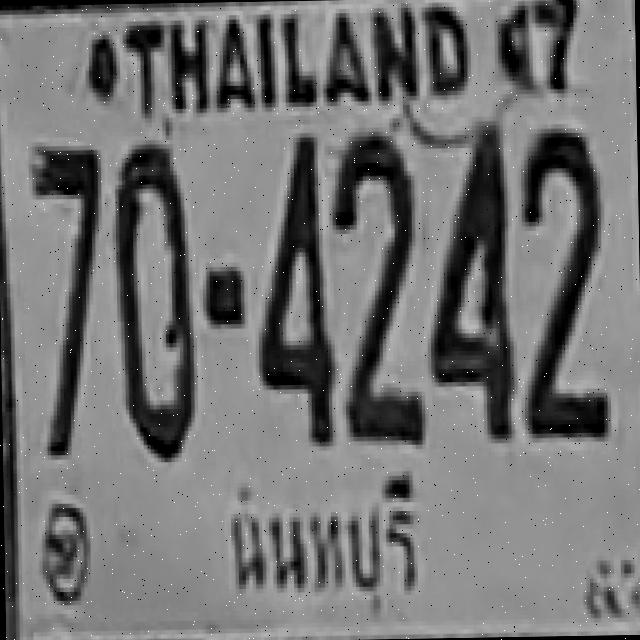0: (110, 139, 195, 458)
2: (329, 136, 416, 392), (519, 180, 606, 434), (518, 127, 602, 380), (340, 204, 420, 438)
4: (424, 119, 512, 438), (252, 130, 332, 445)
Nonthaburi: (206, 471, 438, 618)
